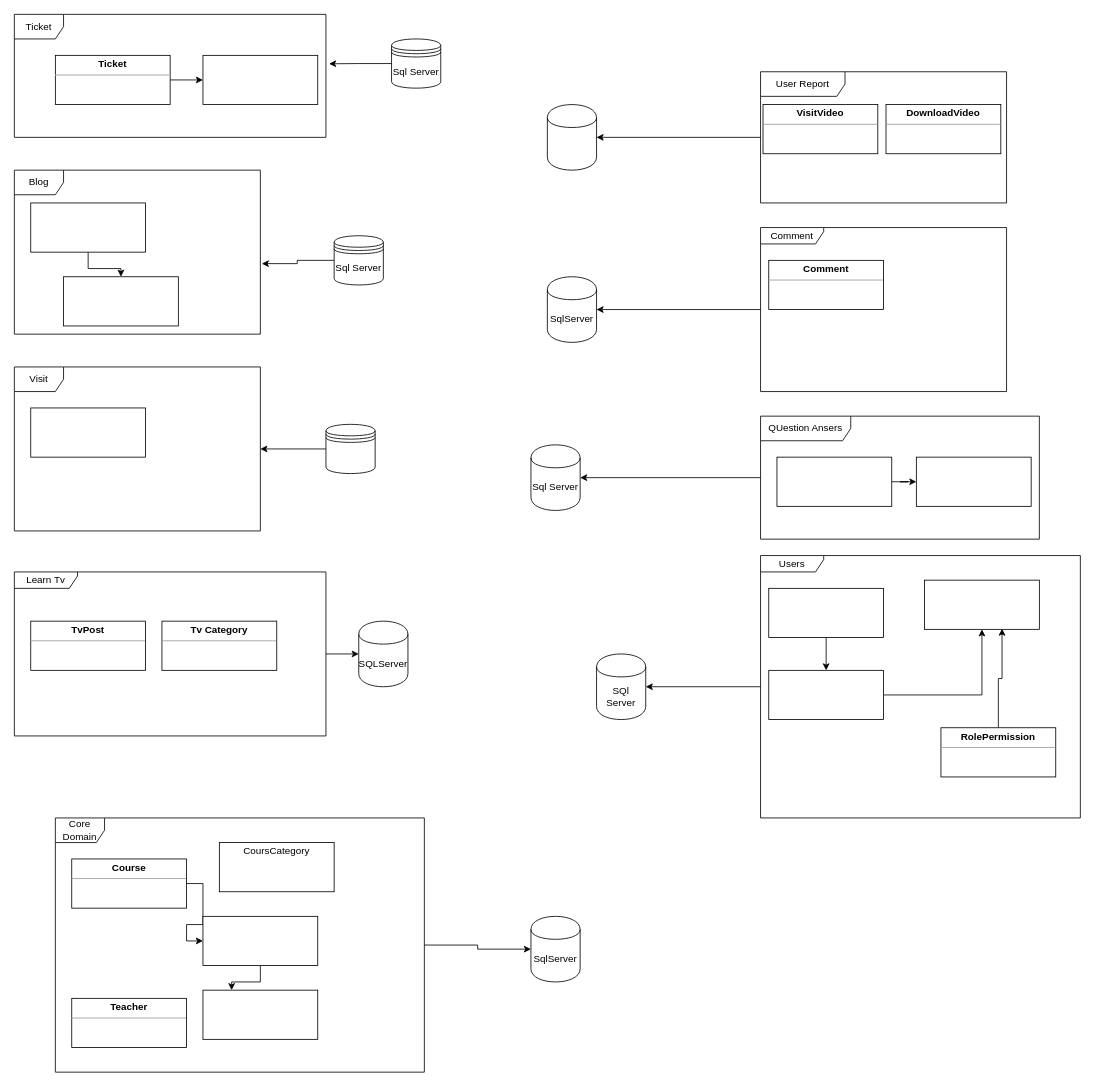
The diagram is 1095 pixels wide and 1087 high, and some of its shapes have lost their labels. The shapes that lost their labels are listed below. From the top down, each one's centre as x and y in pixels, then its label:
At [260,80]: "TicketMessage".
At [572,137]: "Mongo Db".
At [88,227]: "Post".
At [120,301]: "Category".
At [88,432]: "UserVisit".
At [350,449]: "MongoDb".
At [834,481]: "Question".
At [973,481]: "Answers".
At [826,613]: "User".
At [981,604]: "Role".
At [826,695]: "UserRole".
At [260,941]: "Section".
At [260,1014]: "Episode".
